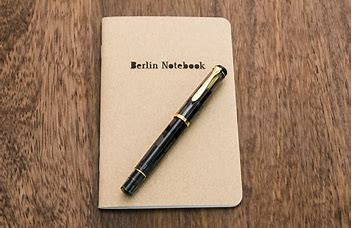pen: (124, 63, 225, 193)
